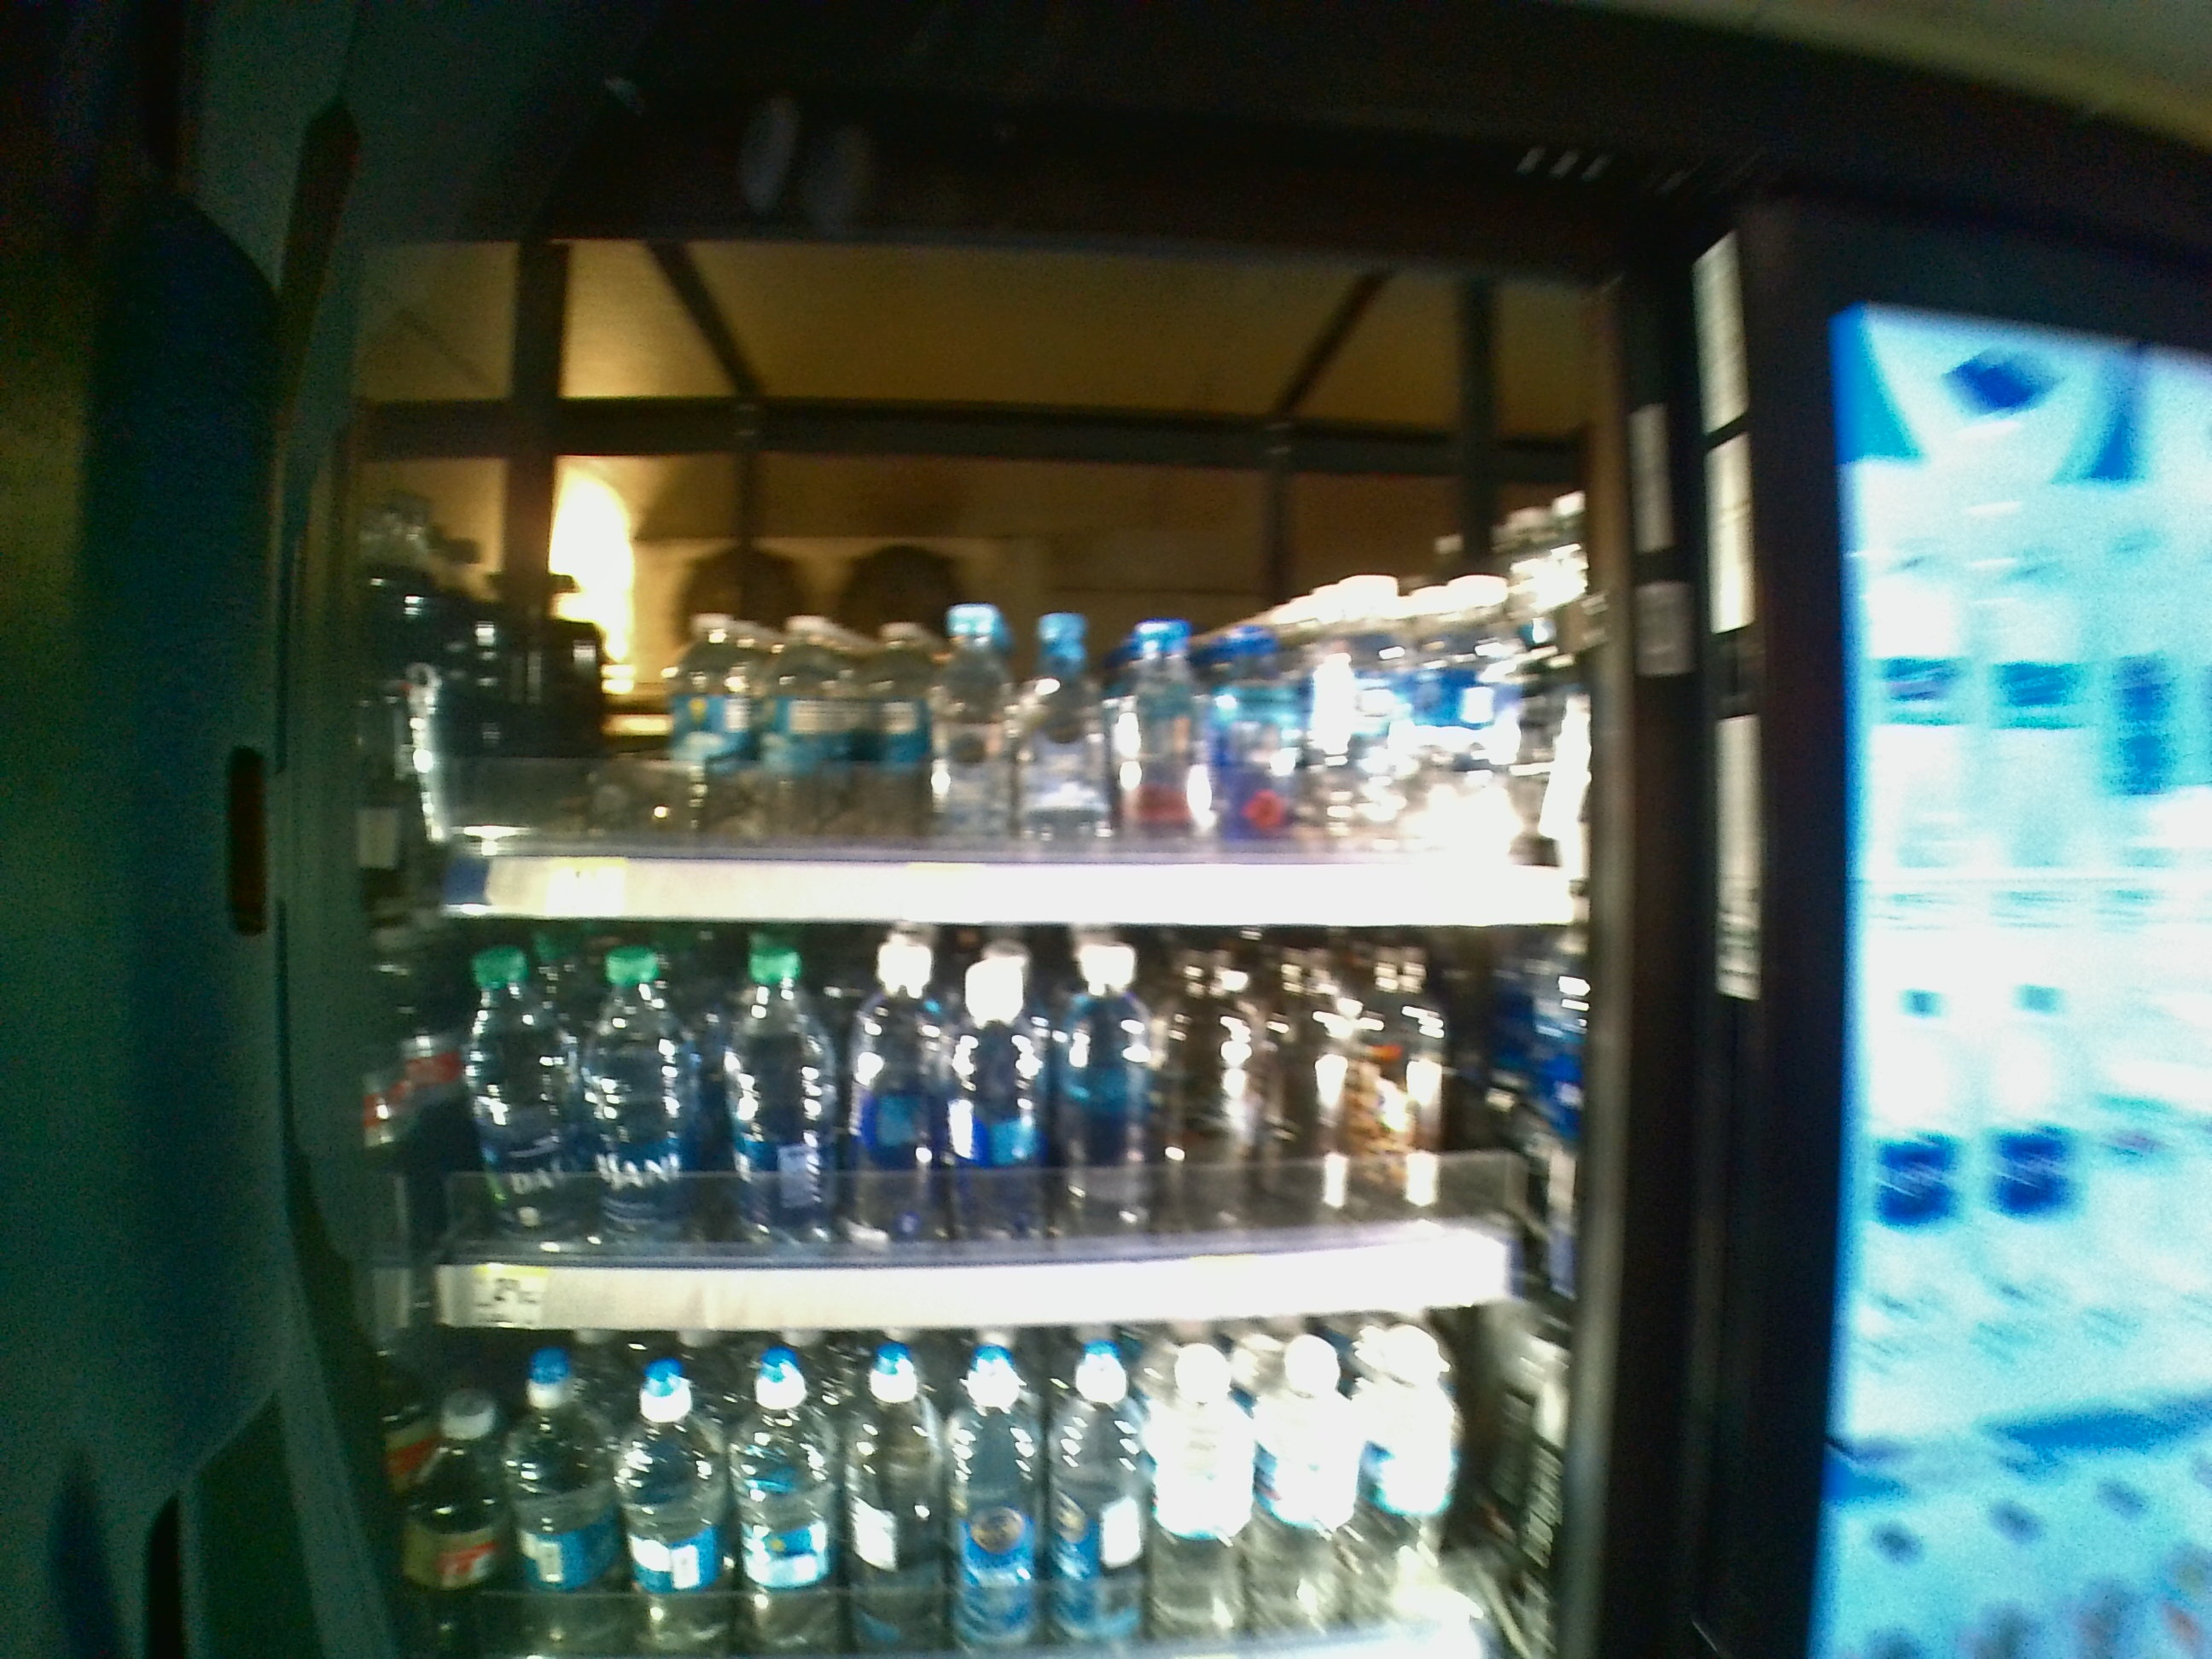Shelf: (334, 247, 1581, 929), (334, 934, 1594, 1338)
